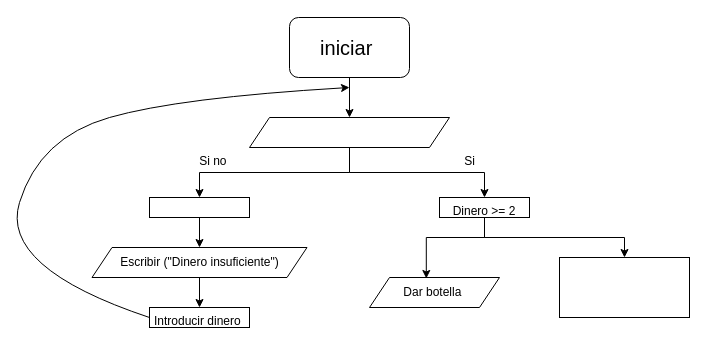
This 708x347 diagram has some shape labels left out. The centre of each missing label's shape, as x and y in pixels:
Devolución = Dinero - 2: point (624, 287)
Dinero <=2: point (199, 207)
Leer dinero: point (349, 132)
